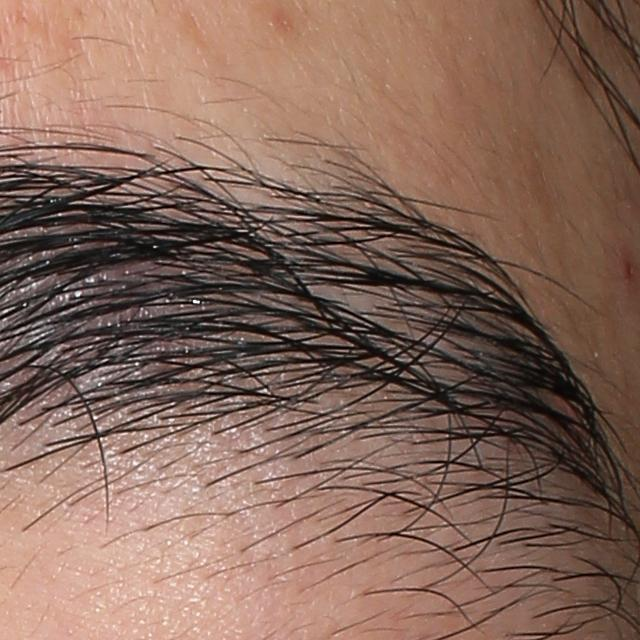papule: (617, 255, 639, 281)
